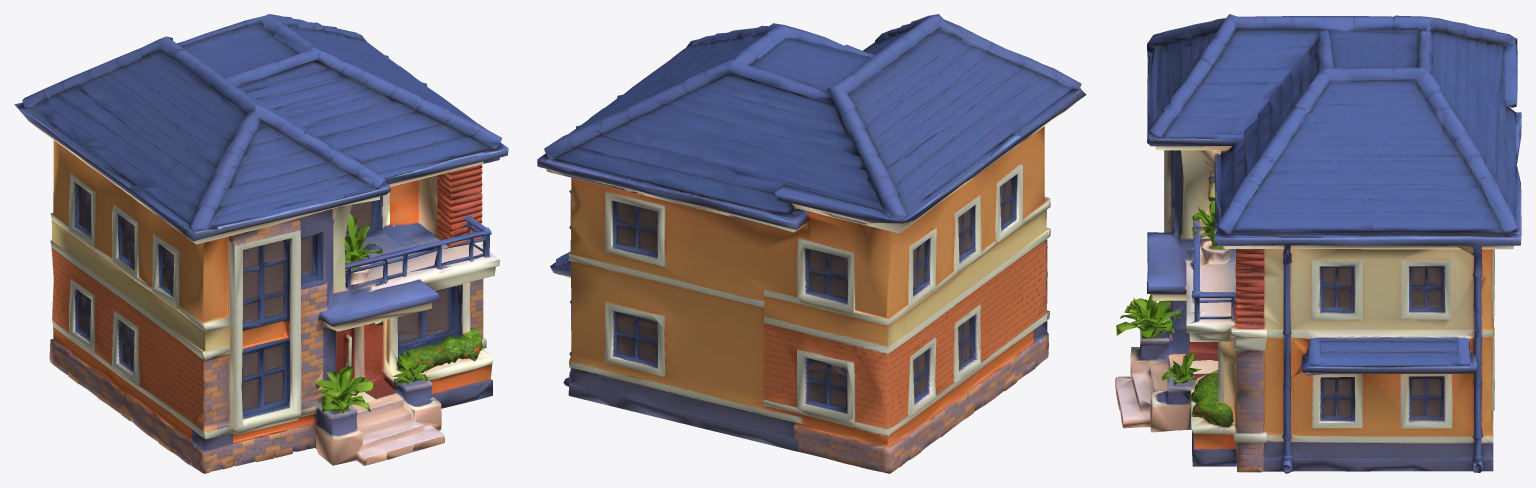
File: modern+house+3d+model.fbx
3 views of the same model, side by side, from view 1: azimuth 30°, elevation 25°; view 2: azimuth 150°, elevation 25°; view 3: azimuth 270°, elevation 25° (orthographic). The views are drawn at different scales.
Parts seen in each view (by area): view 1: tripo_node_88b7b502; view 2: tripo_node_88b7b502; view 3: tripo_node_88b7b502.
Part boxes in pixels (<box>): tripo_node_88b7b502: <box>14,14,508,473</box>; tripo_node_88b7b502: <box>537,14,1086,473</box>; tripo_node_88b7b502: <box>1115,14,1521,473</box>.
Bounding box in the file's own units: 1 × 0.8869 × 0.9468.
